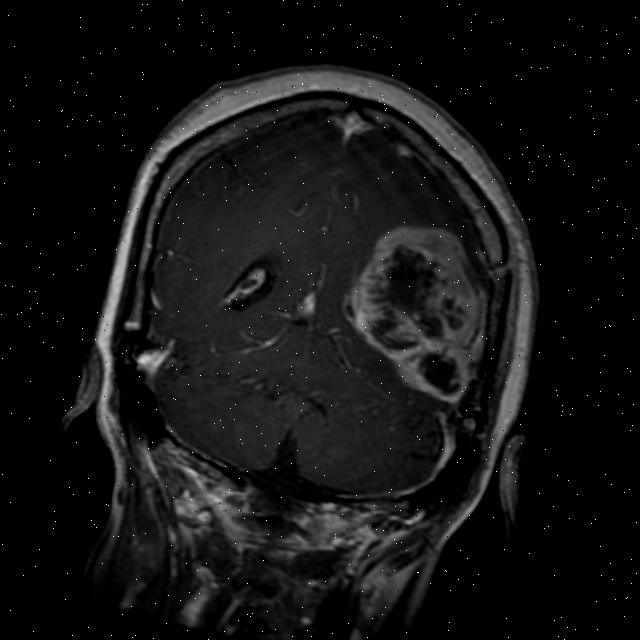Glioma: (332, 207, 504, 411)
